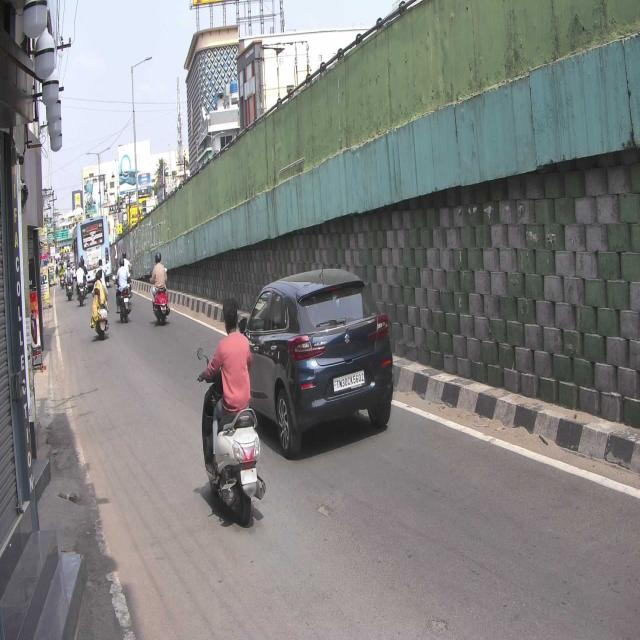single_rider: (196, 294, 268, 528)
